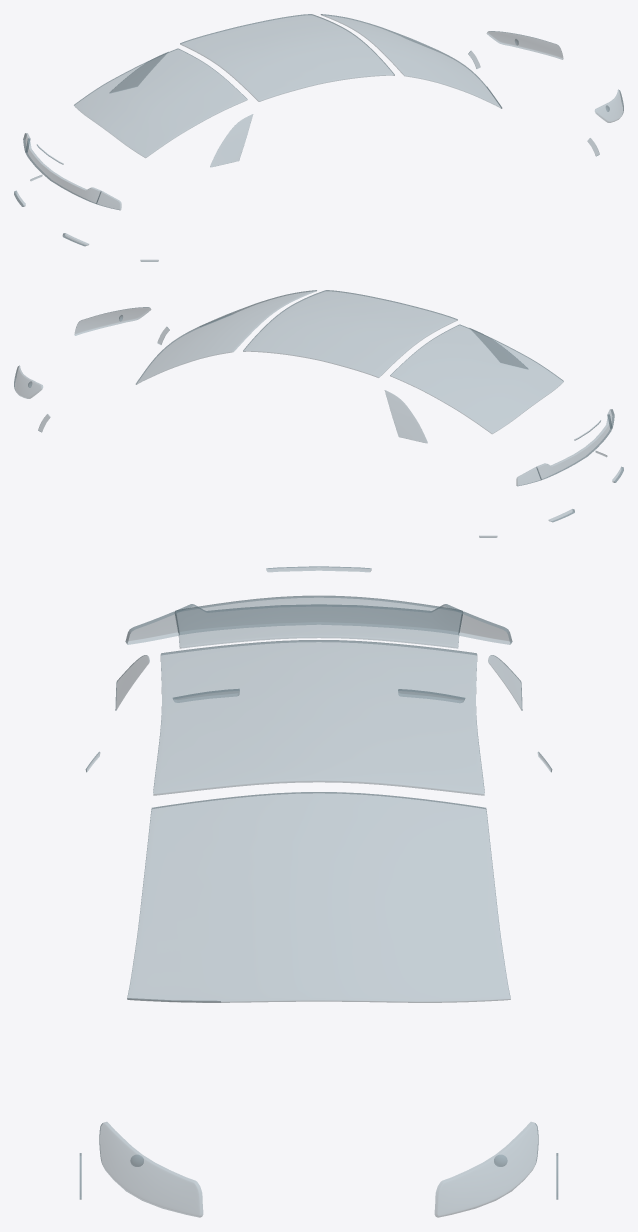
3 renders of one model, top to bottom at view 1: azimuth 30°, elevation 25°; view 2: azimuth 150°, elevation 25°; view 3: azimuth 270°, elevation 25°, orthographic. The views are drawn at different scales.
Visible parts, largest first — view 1: SM_LincolnMKZ_Glass_Ext1; view 2: SM_LincolnMKZ_Glass_Ext1; view 3: SM_LincolnMKZ_Glass_Ext1.
Part boxes in pixels (box(x1,y1,x2,y2)): SM_LincolnMKZ_Glass_Ext1: box(14, 14, 623, 261); SM_LincolnMKZ_Glass_Ext1: box(14, 290, 623, 537); SM_LincolnMKZ_Glass_Ext1: box(79, 566, 558, 1217).
Size of the model in its own units: 4.77 by 1.06 by 1.8.
